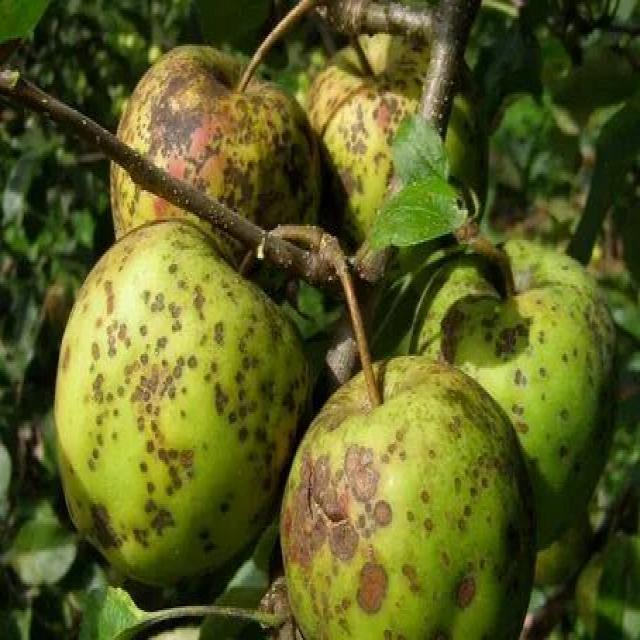Rotten: (56, 228, 296, 574), (296, 348, 518, 640), (428, 226, 618, 522), (292, 17, 498, 263), (122, 60, 310, 270)
